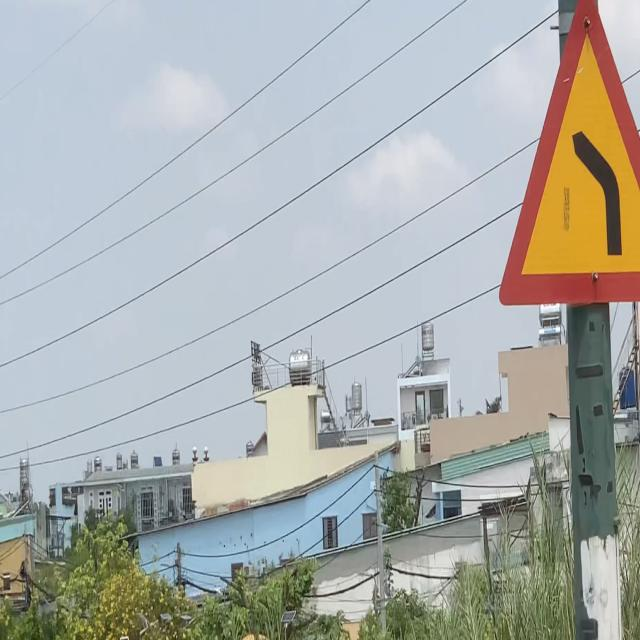Nguy hiem: (496, 0, 640, 310)
